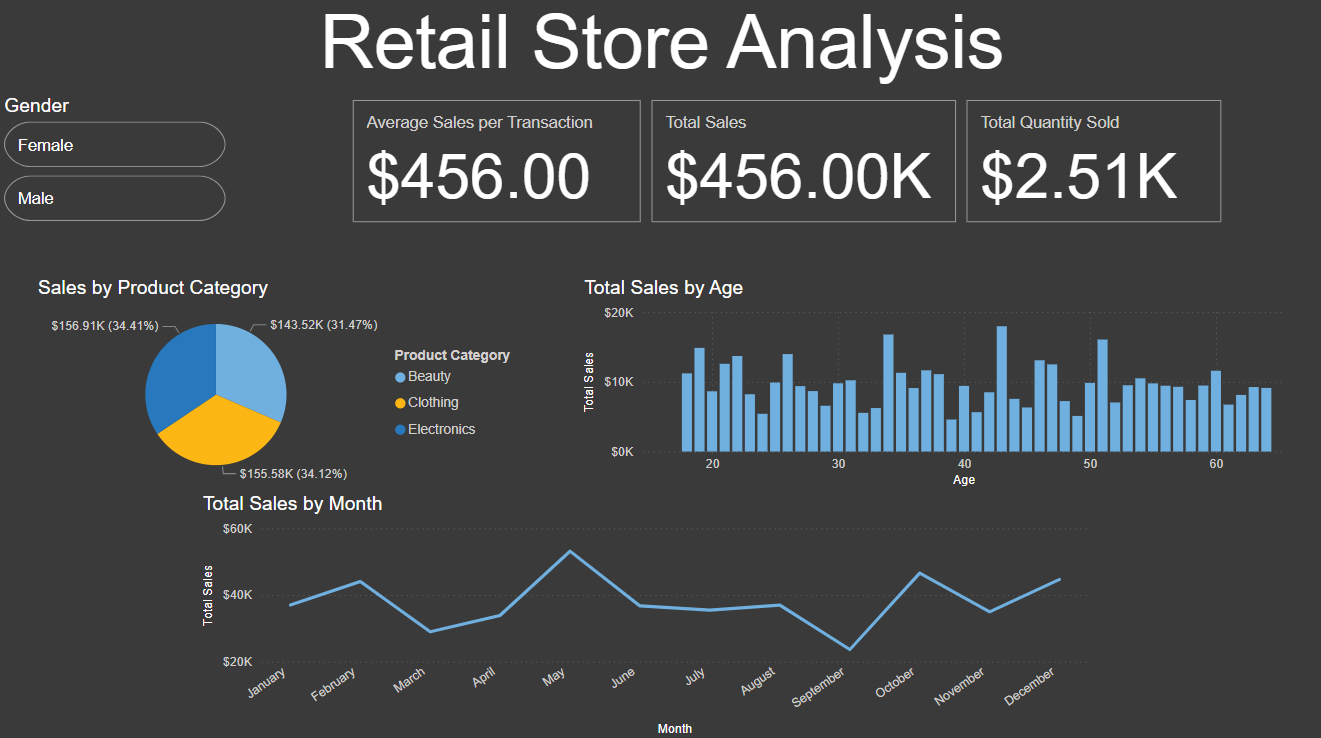

What the dashboard file says about the page in this screenshot:
{"tool":"powerbi","page":{"name":"Retail Store Sales Analysis Dashboard","canvas":[1280,720],"ordinal":0},"visuals":[{"type":"group","id":"g1","title":"Group 1","box":[0,96,224,128],"z":0},{"type":"advancedSlicerVisual","fields":{"Values":["retail_sales_dataset.Gender"]},"box":[0,96,224,128],"z":0,"group":"g1"},{"type":"cardVisual","fields":{"Data":["retail_sales_dataset.Average Sales per Transaction"]},"box":[336,96,288,128],"z":0,"group":"g3"},{"type":"cardVisual","fields":{"Data":["retail_sales_dataset.Total Sales"]},"box":[624,96,304,128],"z":1000,"group":"g3"},{"type":"pieChart","title":"Sales by Product Category","fields":{"Y":["retail_sales_dataset.Total Sales"],"Series":["retail_sales_dataset.Product Category"]},"box":[32,272,480,208],"z":1000},{"type":"cardVisual","fields":{"Data":["retail_sales_dataset.Total Quantity Sold"]},"box":[928,96,256,128],"z":2000,"group":"g3"},{"type":"group","id":"g2","title":"Group 3","box":[192,480,864,240],"z":2000},{"type":"lineChart","fields":{"Category":["retail_sales_dataset.Date.Variation.Date Hierarchy.Month","retail_sales_dataset.Date.Variation.Date Hierarchy.Day"],"Y":["retail_sales_dataset.Total Sales"]},"box":[192,480,864,240],"z":2000,"group":"g2"},{"type":"columnChart","fields":{"Y":["retail_sales_dataset.Total Sales"],"Category":["retail_sales_dataset.Age"]},"box":[560,272,688,208],"z":3000},{"type":"textbox","box":[0,0,1280,96],"z":4000},{"type":"actionButton","box":[0,0,100,40],"z":5000},{"type":"group","id":"g3","title":"Group 2","box":[336,96,848,128],"z":6000}]}

Visuals, with their boxes in screenshot pixels (x1, y1, x2, y2), scaled from the page's 1280x720 canvas onto the 1321x738 screenshot:
"Group 1" group: 0,98,231,230
advancedSlicerVisual - retail_sales_dataset.Gender: 0,98,231,230
cardVisual - retail_sales_dataset.Average Sales per Transaction: 347,98,644,230
cardVisual - retail_sales_dataset.Total Sales: 644,98,958,230
"Sales by Product Category" pieChart: 33,279,528,492
cardVisual - retail_sales_dataset.Total Quantity Sold: 958,98,1222,230
"Group 3" group: 198,492,1090,737
lineChart - retail_sales_dataset.Date.Variation.Date Hierarchy.Month x retail_sales_dataset.Date.Variation.Date Hierarchy.Day: 198,492,1090,737
columnChart - retail_sales_dataset.Total Sales x retail_sales_dataset.Age: 578,279,1288,492
textbox: 0,0,1320,98
actionButton: 0,0,103,41
"Group 2" group: 347,98,1222,230
